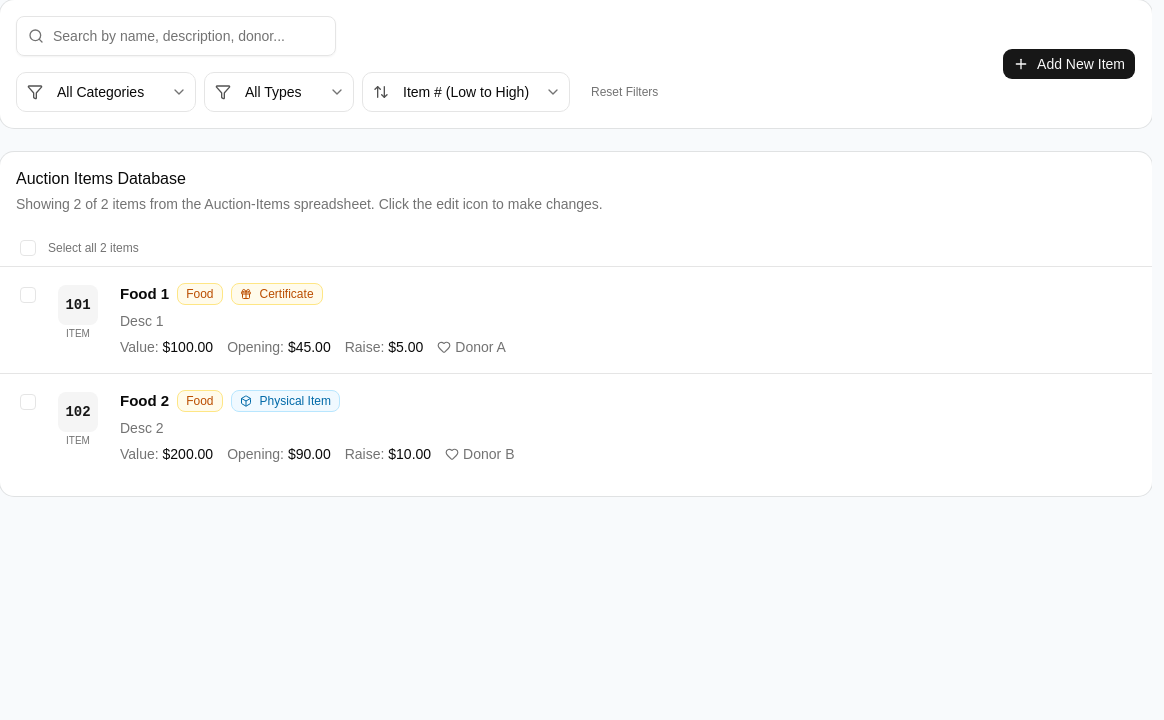
Scenario: AuctionItemsTab - real bundling wiring (useBundling unmocked) › selecting 2 items shows the bulk action bar with the real count
Click the checkbox named "Select item 101".
click(28, 295)  # box [20,287,36,303]
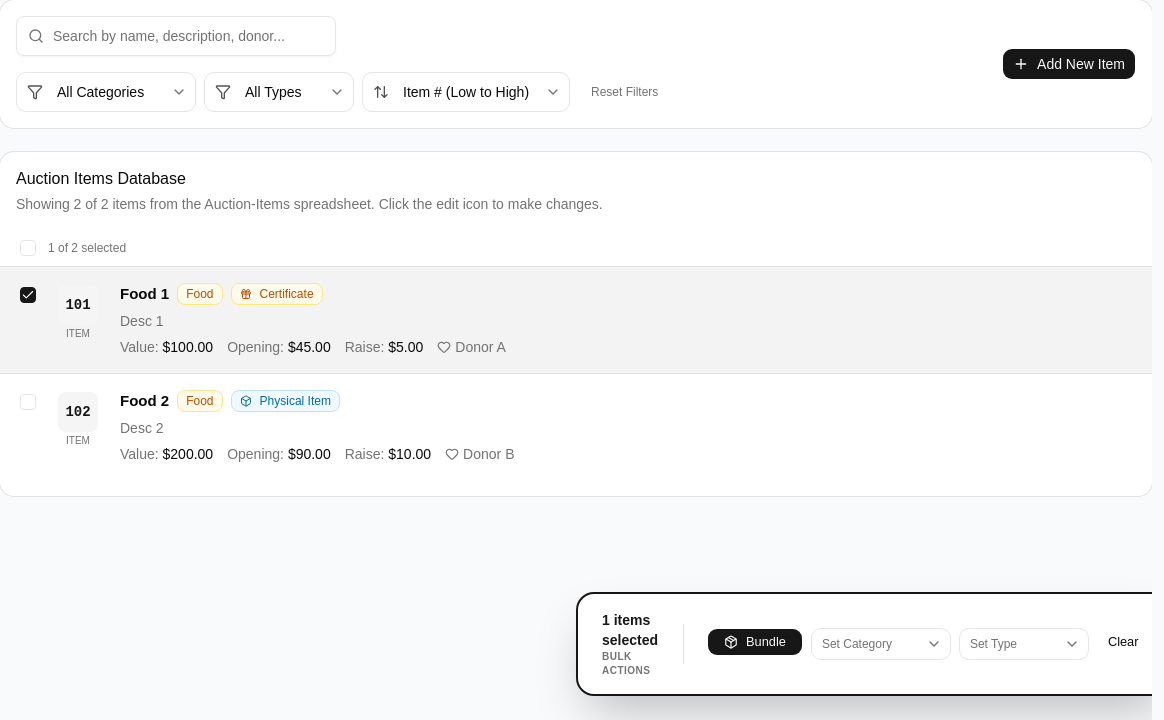
Click the checkbox named "Select item 102".
click(28, 402)  # box [20,394,36,410]
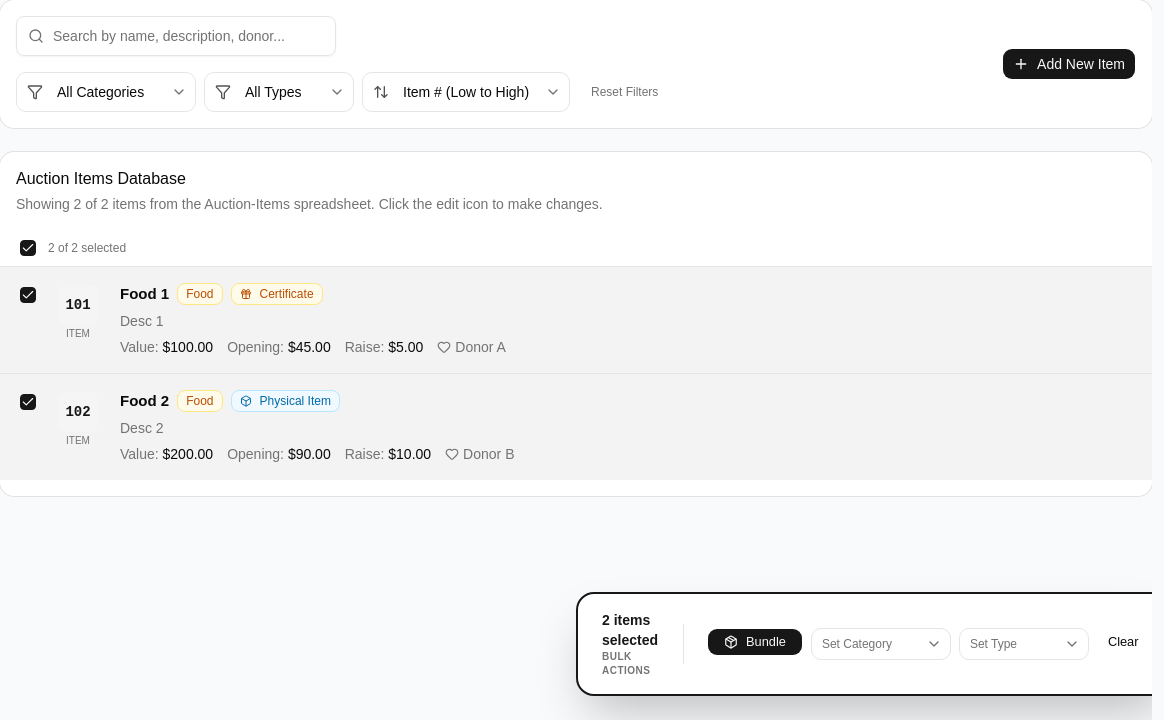
Expected: the text "2 items selected" is shown, [602,610,658,650]
